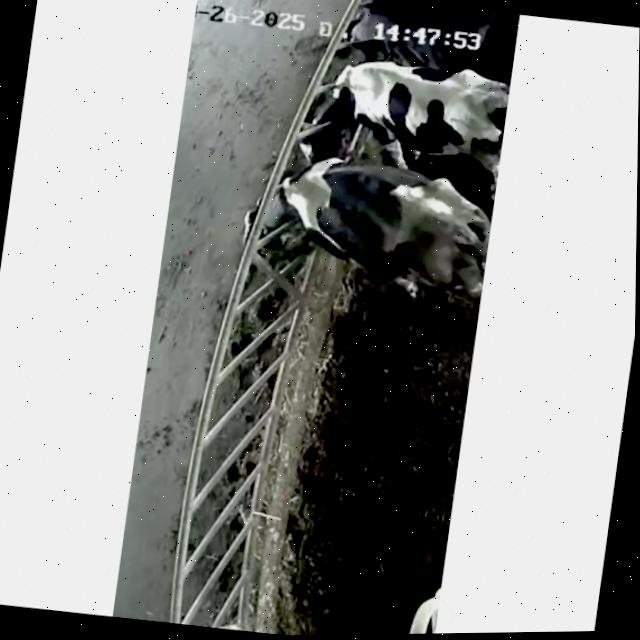eat: (258, 46, 421, 164), (212, 150, 362, 267), (303, 0, 467, 60)
